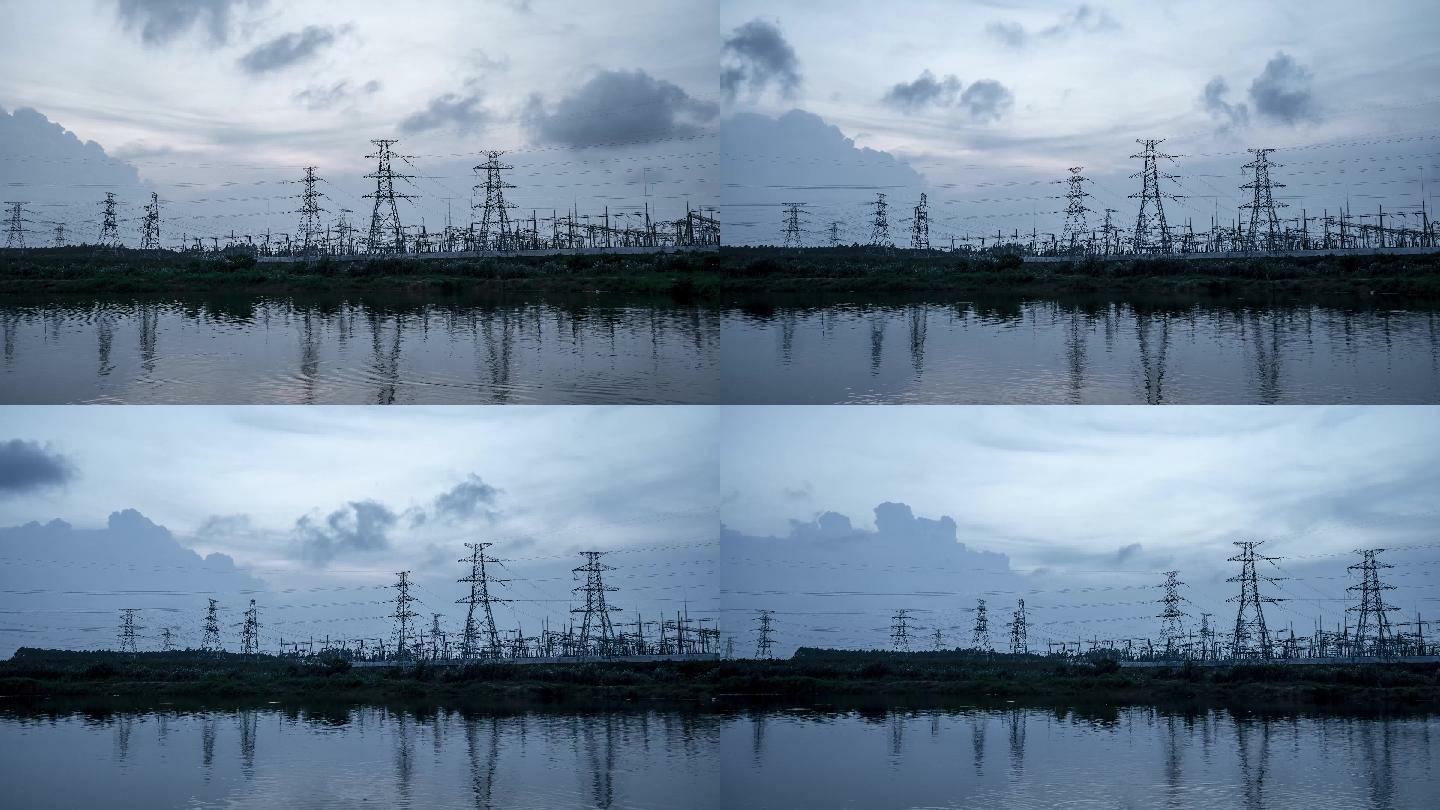power_tower: (354, 132, 421, 254), (563, 546, 633, 658), (1121, 137, 1183, 252), (1229, 529, 1283, 651), (1339, 540, 1397, 653), (466, 142, 526, 246), (456, 537, 516, 641), (1237, 144, 1298, 244), (1048, 163, 1096, 248), (382, 561, 427, 651), (289, 163, 333, 247), (1153, 559, 1193, 651), (138, 182, 177, 250), (770, 197, 818, 249), (909, 191, 947, 251), (0, 197, 40, 251), (864, 191, 898, 254), (959, 596, 999, 649), (1007, 593, 1040, 656), (750, 600, 781, 664), (112, 597, 149, 648), (96, 189, 126, 246), (240, 591, 268, 652), (887, 600, 922, 647), (202, 597, 224, 651), (823, 214, 848, 251), (48, 214, 73, 250)
